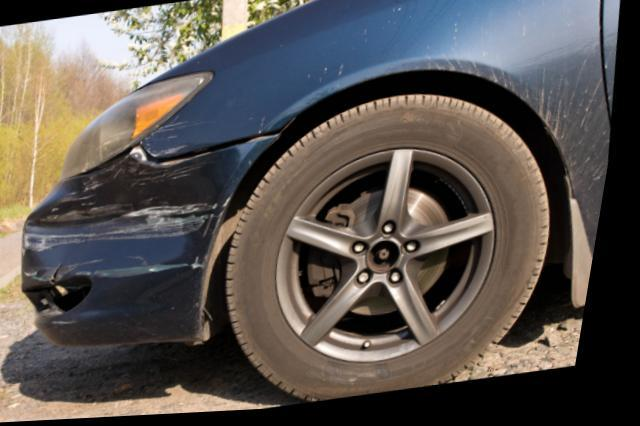crack: (59, 265, 71, 285)
dent: (33, 154, 244, 280)
dislocated part: (125, 128, 281, 176)
